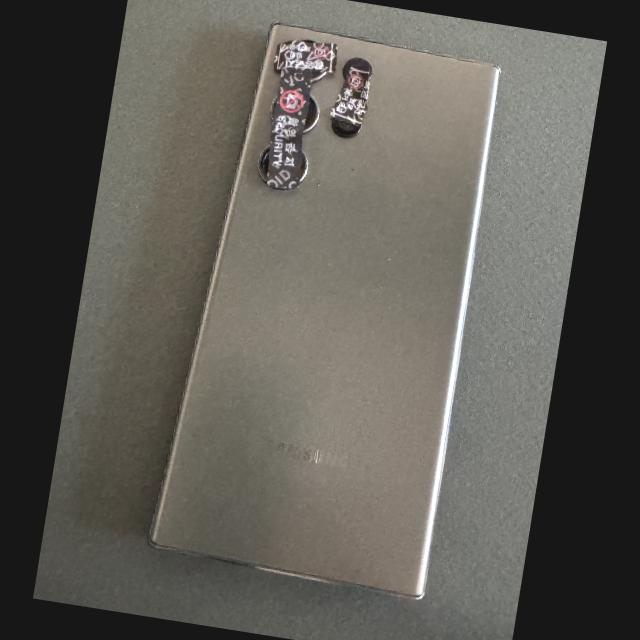lens: (345, 58, 369, 80), (303, 98, 317, 132), (259, 150, 267, 182), (313, 71, 325, 79)
phone: (150, 24, 499, 598)
sticker: (268, 67, 313, 190), (326, 64, 370, 129), (275, 41, 337, 72)
